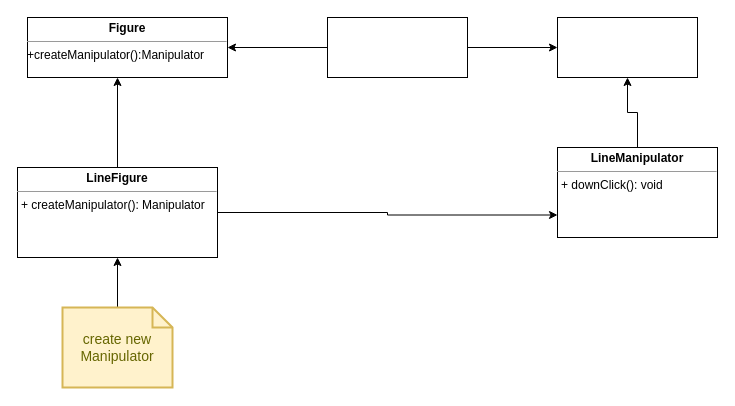
The diagram is 735 pixels wide and 406 high, and some of its shapes have lost their labels. The centre of each missing label's shape, as x and y in pixels:
Client: [397,47]
Manipulator +downClick():void: [627,47]
